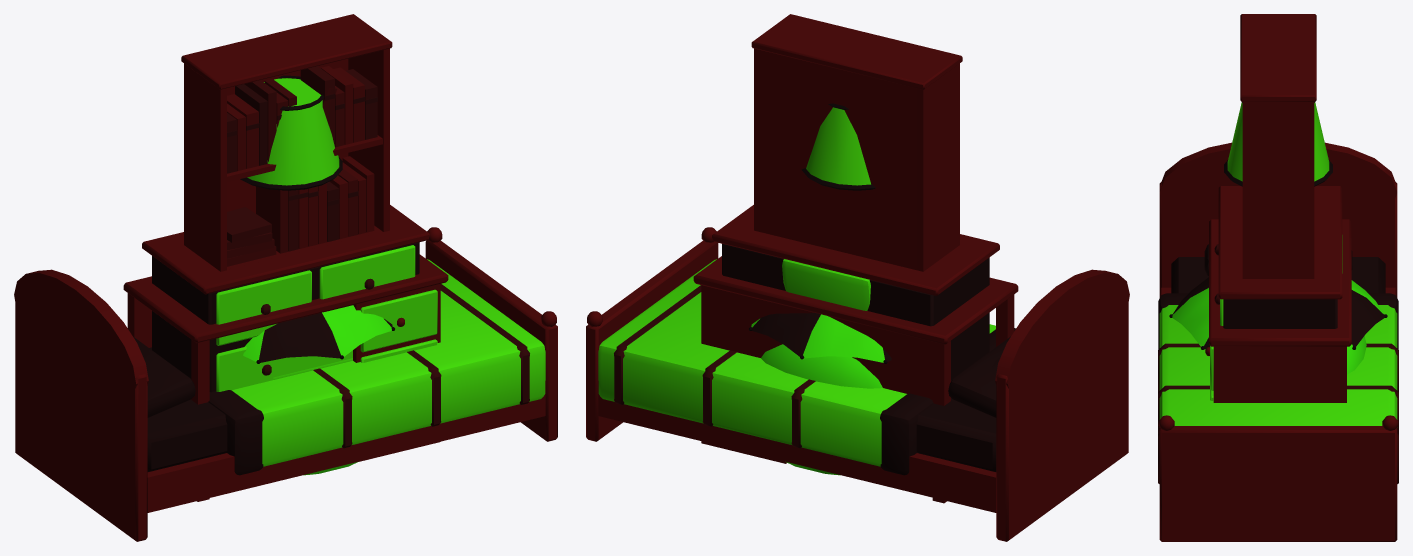
3 renders of one model, left to right at view 1: azimuth 30°, elevation 25°; view 2: azimuth 150°, elevation 25°; view 3: azimuth 270°, elevation 25°, orthographic. The views are drawn at different scales.
Parts seen in each view (by area): view 1: bed, bookshelf, dresser, desk, floor_lamp, umbrella; view 2: bed, bookshelf, desk, dresser, umbrella, floor_lamp, beanbag, desk_chair; view 3: bed, bookshelf, desk, dresser, umbrella, floor_lamp, beanbag.
Part boxes in pixels (x1=…): bed: x1=14, y1=227, x2=557, y2=541; bookshelf: x1=181, y1=14, x2=392, y2=271; dresser: x1=142, y1=205, x2=429, y2=392; desk: x1=123, y1=254, x2=448, y2=501; floor_lamp: x1=240, y1=75, x2=342, y2=190; umbrella: x1=243, y1=305, x2=394, y2=363; bed: x1=586, y1=227, x2=1129, y2=541; bookshelf: x1=751, y1=14, x2=962, y2=271; desk: x1=693, y1=256, x2=1018, y2=503; dresser: x1=712, y1=205, x2=999, y2=380; umbrella: x1=749, y1=313, x2=891, y2=363; floor_lamp: x1=801, y1=103, x2=875, y2=190; beanbag: x1=761, y1=344, x2=882, y2=475; desk_chair: x1=782, y1=259, x2=870, y2=310; bed: x1=1158, y1=142, x2=1398, y2=541; bookshelf: x1=1240, y1=14, x2=1316, y2=278; desk: x1=1205, y1=219, x2=1351, y2=402; dresser: x1=1214, y1=186, x2=1342, y2=328; umbrella: x1=1169, y1=277, x2=1387, y2=349; floor_lamp: x1=1224, y1=101, x2=1332, y2=186; beanbag: x1=1347, y1=336, x2=1366, y2=374.
Size of what is drawn, in the model's own units: 2 by 1.8 by 1.01.
